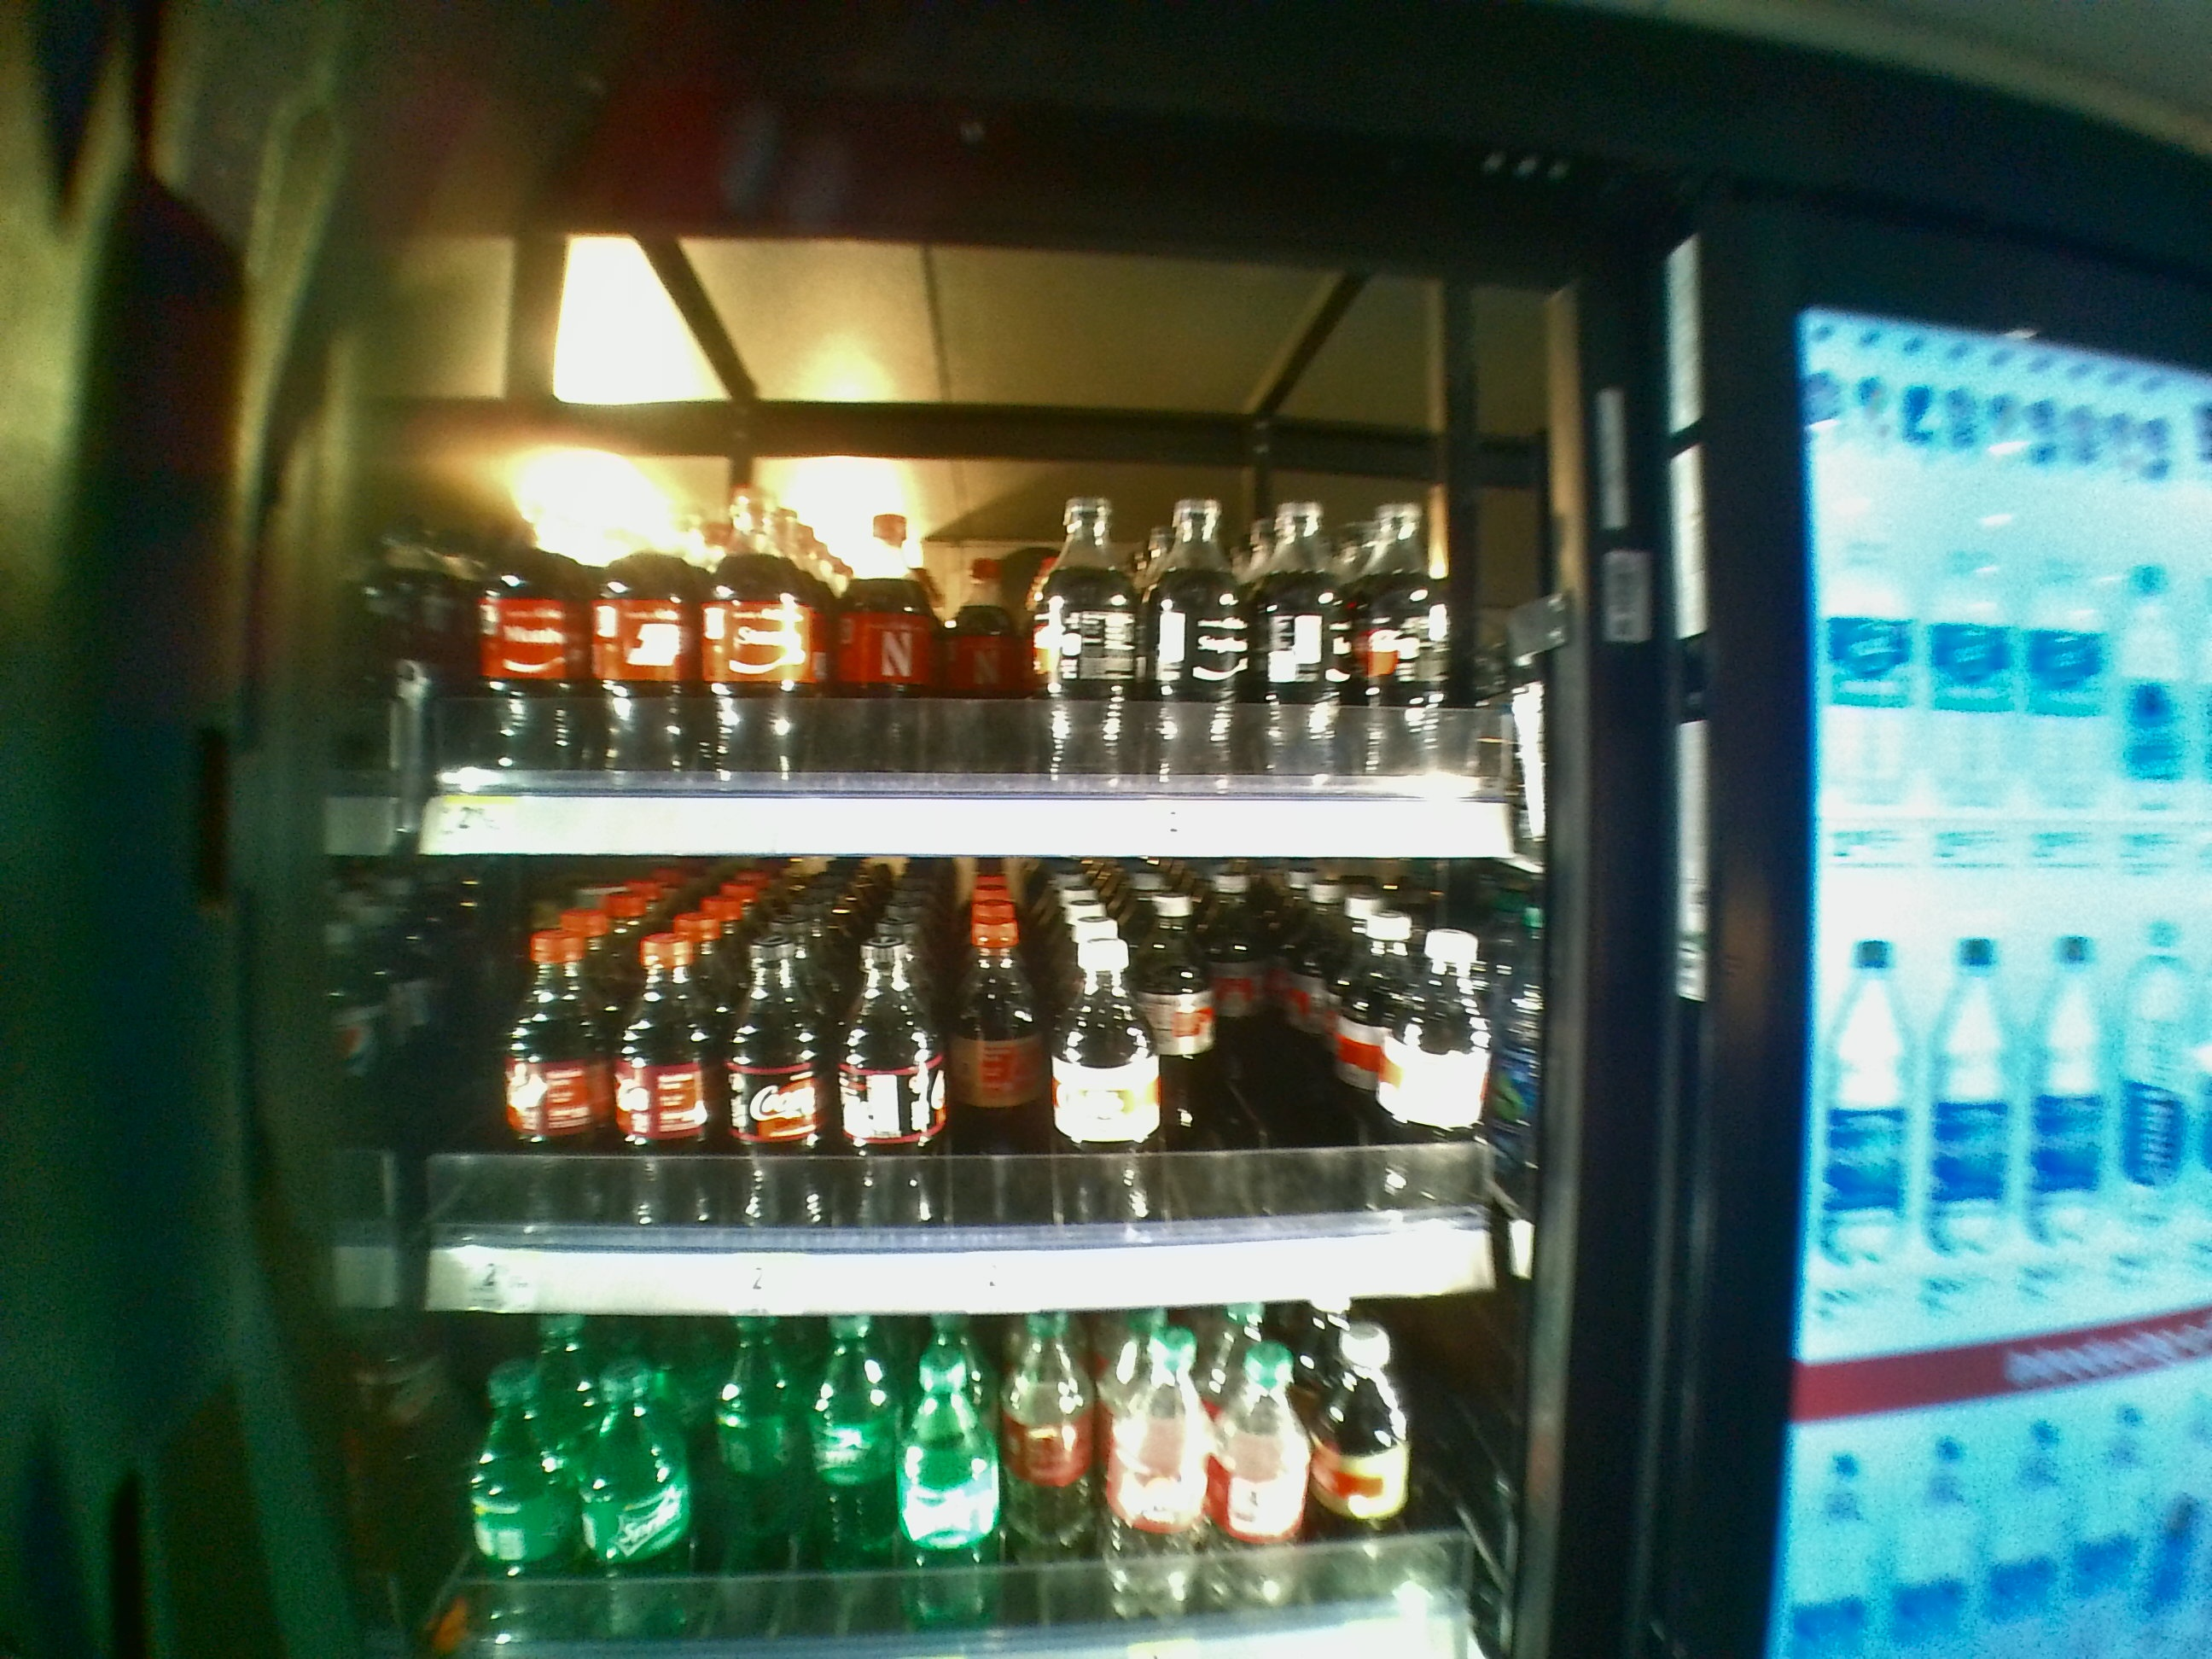shelf: (392, 232, 1548, 868), (392, 864, 1541, 1316)
